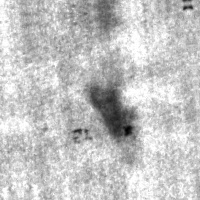patches: (87, 83, 135, 142)
